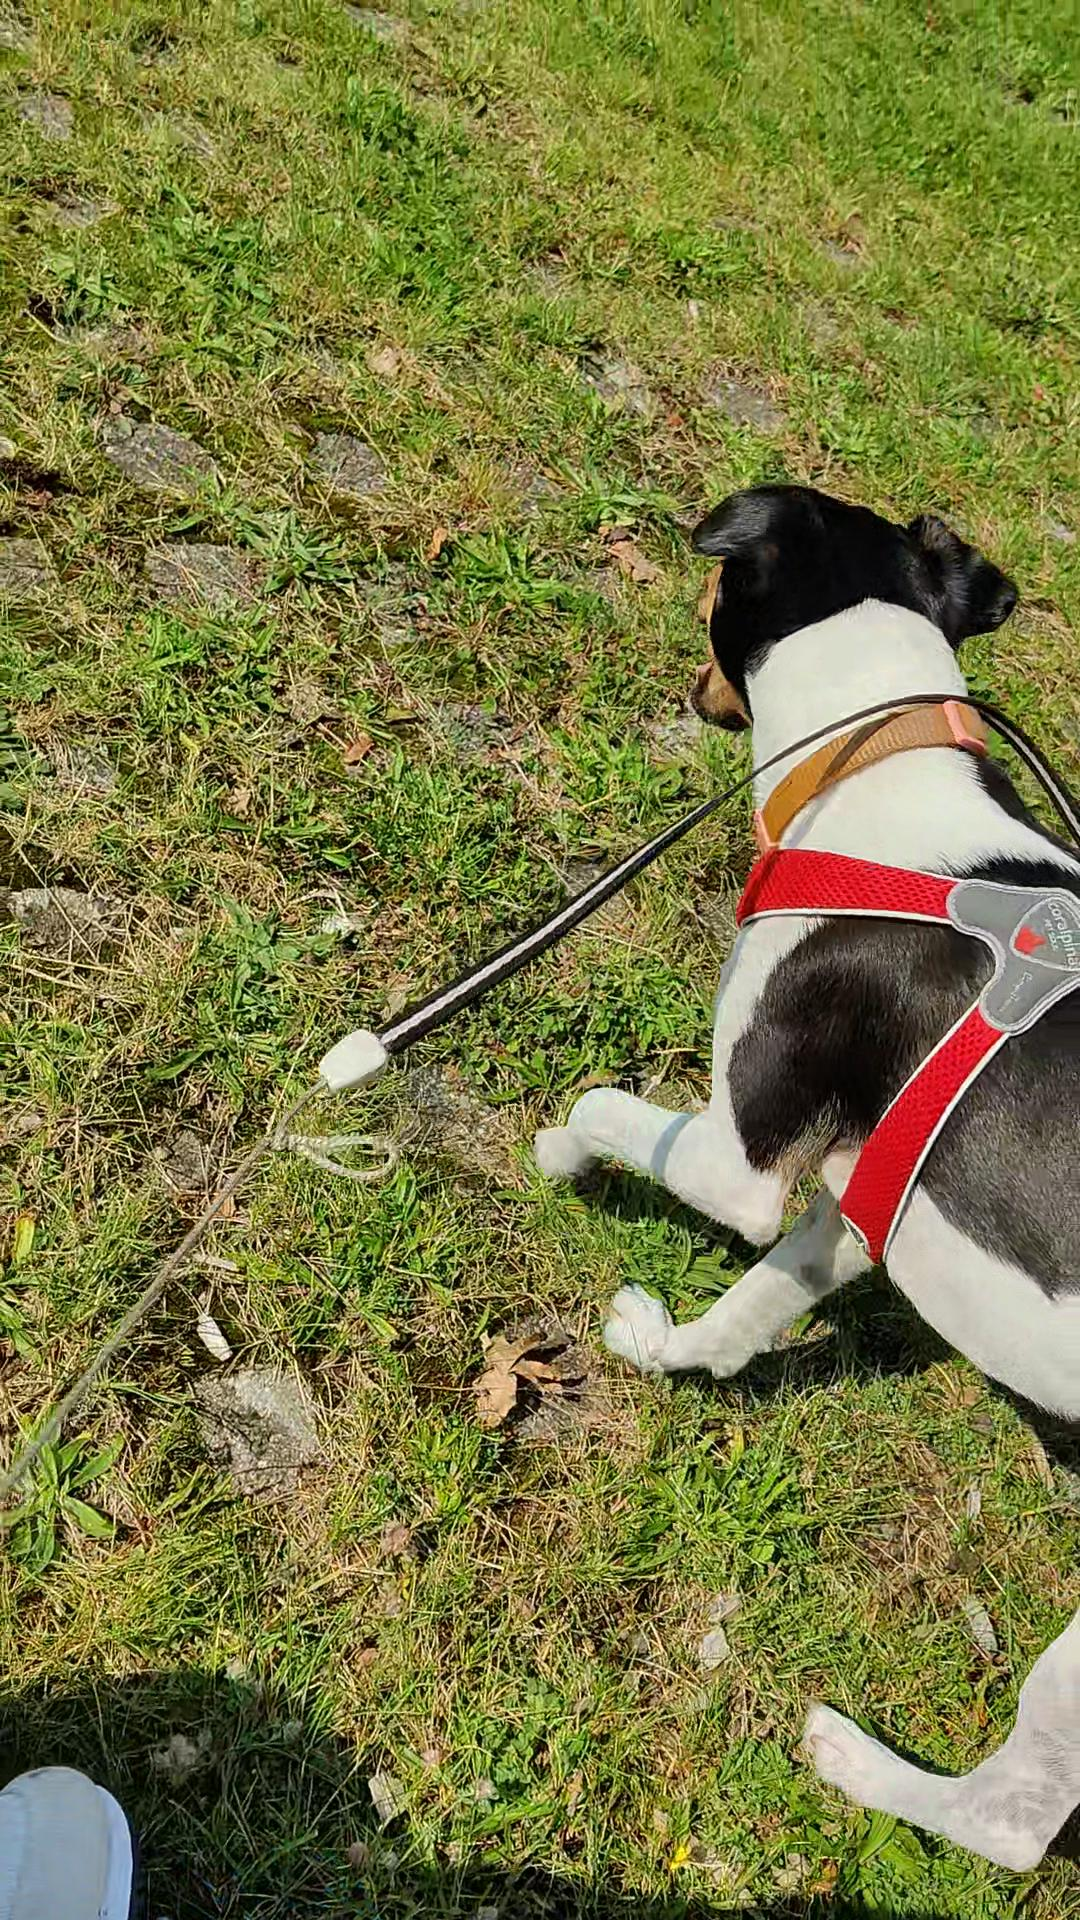Dog: (524, 407, 1079, 1890)
